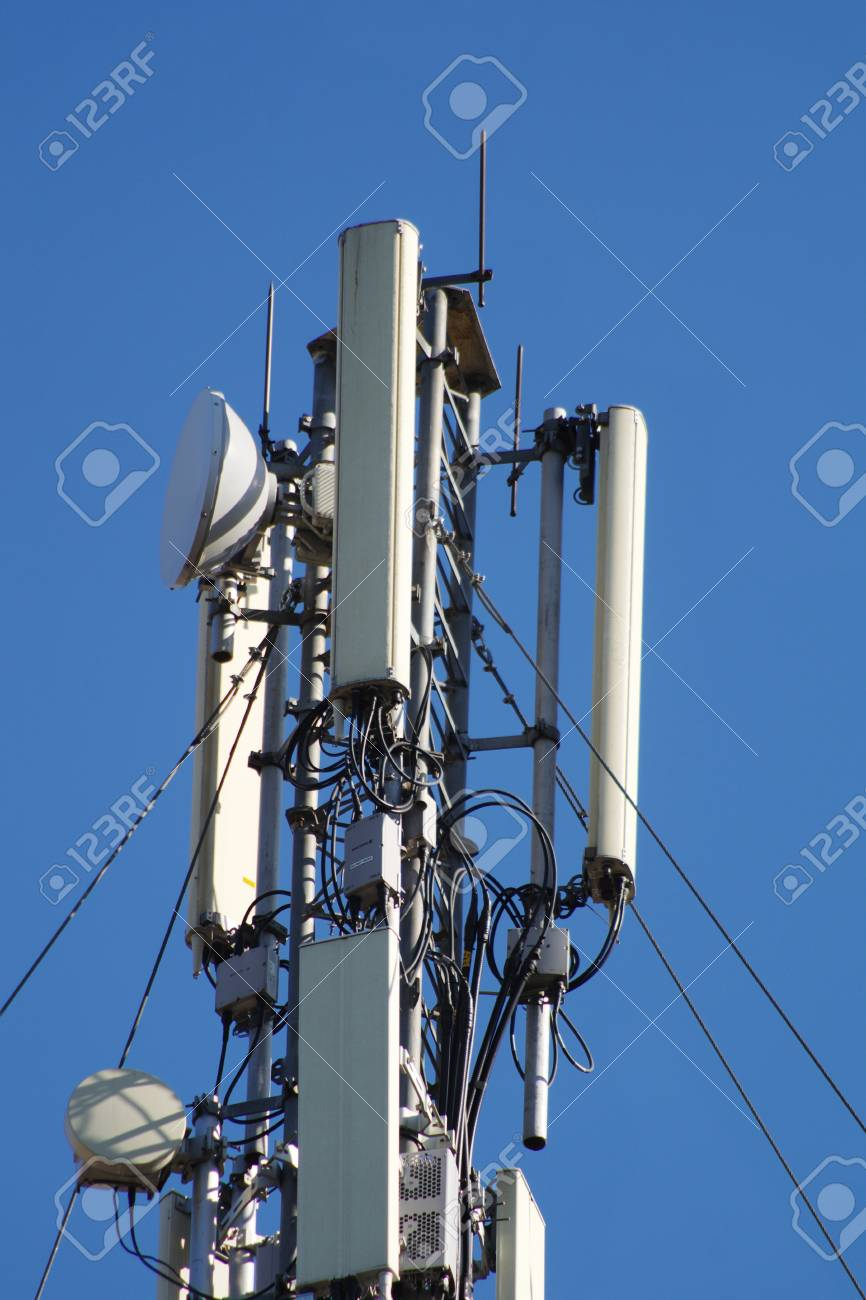ba: (131, 371, 273, 614), (54, 1069, 208, 1197)
sa: (328, 189, 442, 707), (558, 370, 657, 936), (201, 571, 297, 986)
